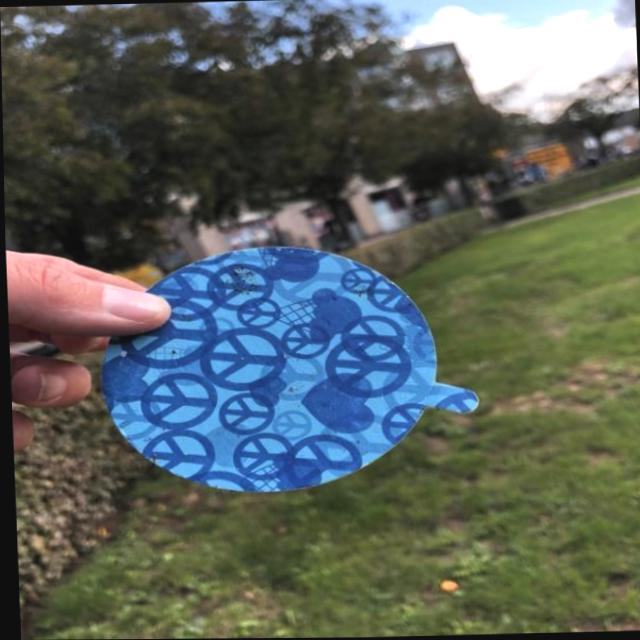Paper: (90, 237, 482, 498)
